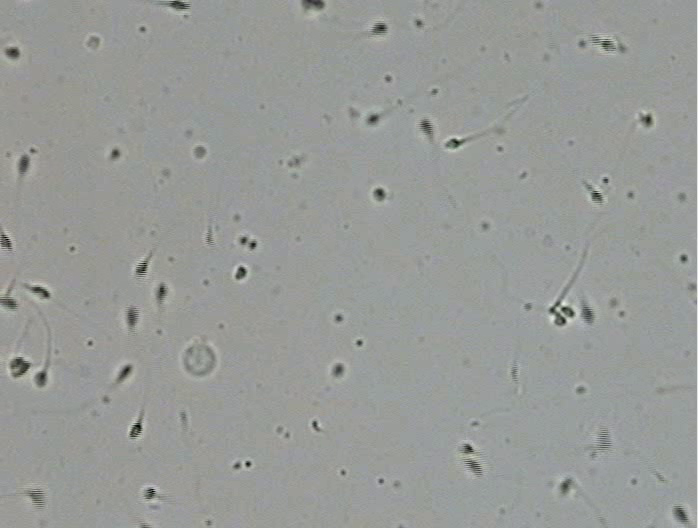Impurity: (184, 345, 217, 377), (86, 36, 100, 49)
S: (9, 356, 30, 378), (462, 456, 482, 477), (27, 489, 45, 509), (596, 428, 611, 451), (672, 505, 689, 524), (29, 285, 51, 299), (580, 304, 595, 324), (125, 305, 139, 325), (600, 36, 617, 52), (1, 296, 19, 311), (418, 119, 433, 136), (1, 231, 13, 252), (129, 421, 143, 439), (118, 363, 132, 380), (135, 260, 148, 278), (370, 22, 388, 35), (590, 189, 604, 205), (169, 1, 191, 11), (18, 154, 29, 174), (301, 1, 325, 10), (33, 371, 47, 386), (156, 282, 167, 300), (4, 47, 20, 59), (560, 306, 576, 318), (194, 145, 207, 159), (331, 364, 345, 377), (235, 265, 247, 280), (559, 479, 571, 494), (445, 138, 461, 149), (142, 488, 156, 500), (373, 188, 385, 202), (459, 443, 474, 454), (366, 114, 379, 125), (642, 114, 653, 127), (554, 315, 567, 326), (110, 149, 121, 160)
